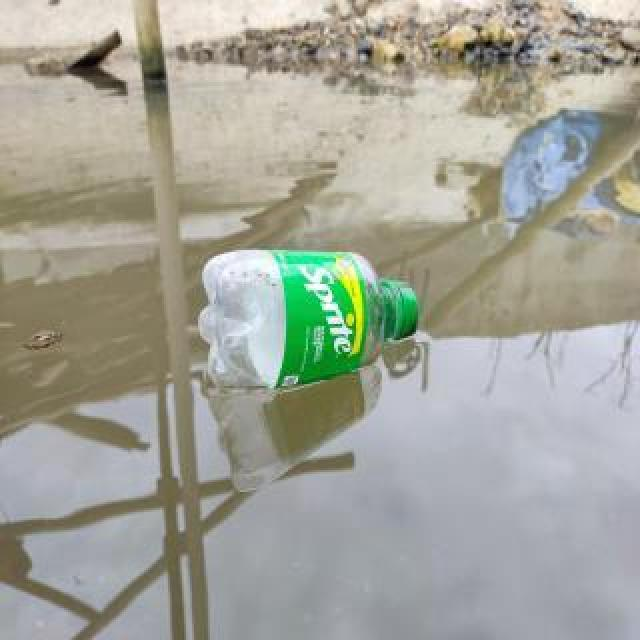bottle: (195, 245, 421, 393)
